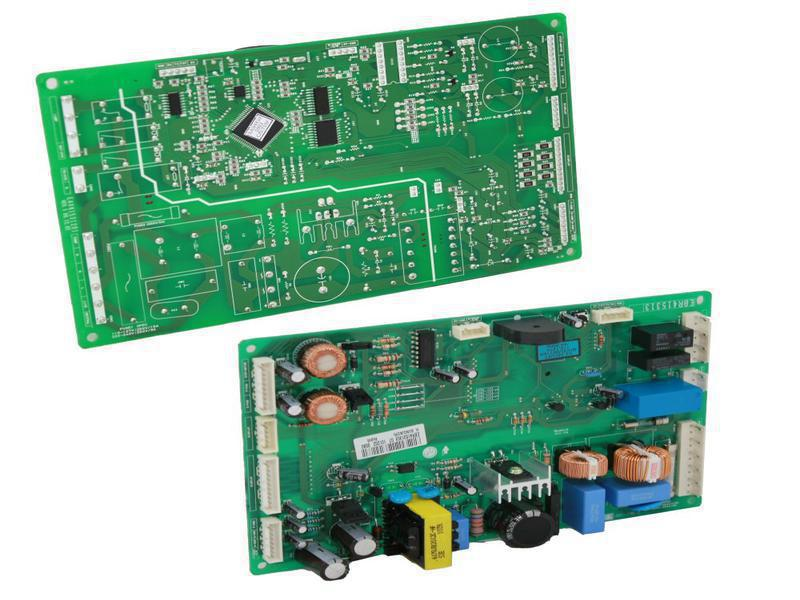circuit_board: (27, 9, 599, 351), (228, 275, 729, 582)
